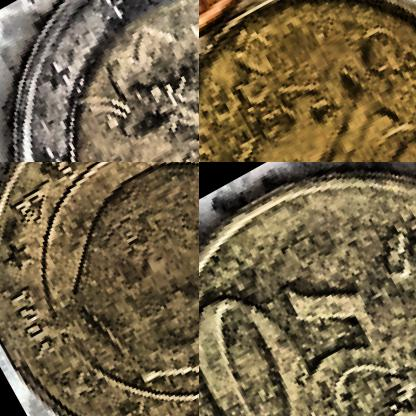coin: (199, 162, 415, 415), (0, 162, 198, 415), (199, 0, 415, 161), (0, 0, 198, 161)
